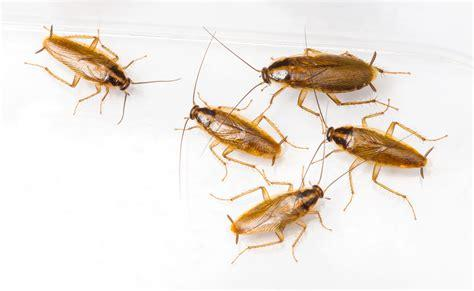cockroach: (320, 112, 437, 181), (256, 47, 382, 110), (37, 25, 136, 102), (184, 100, 286, 168), (228, 182, 328, 248)
